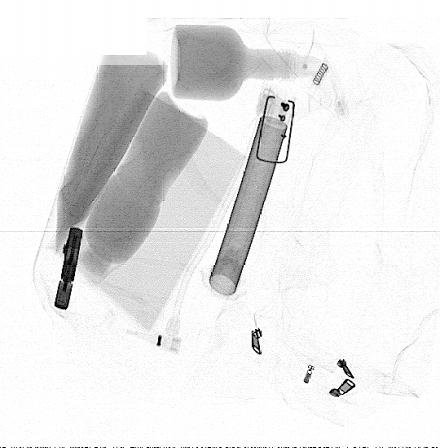Lighter: (54, 226, 83, 310)
